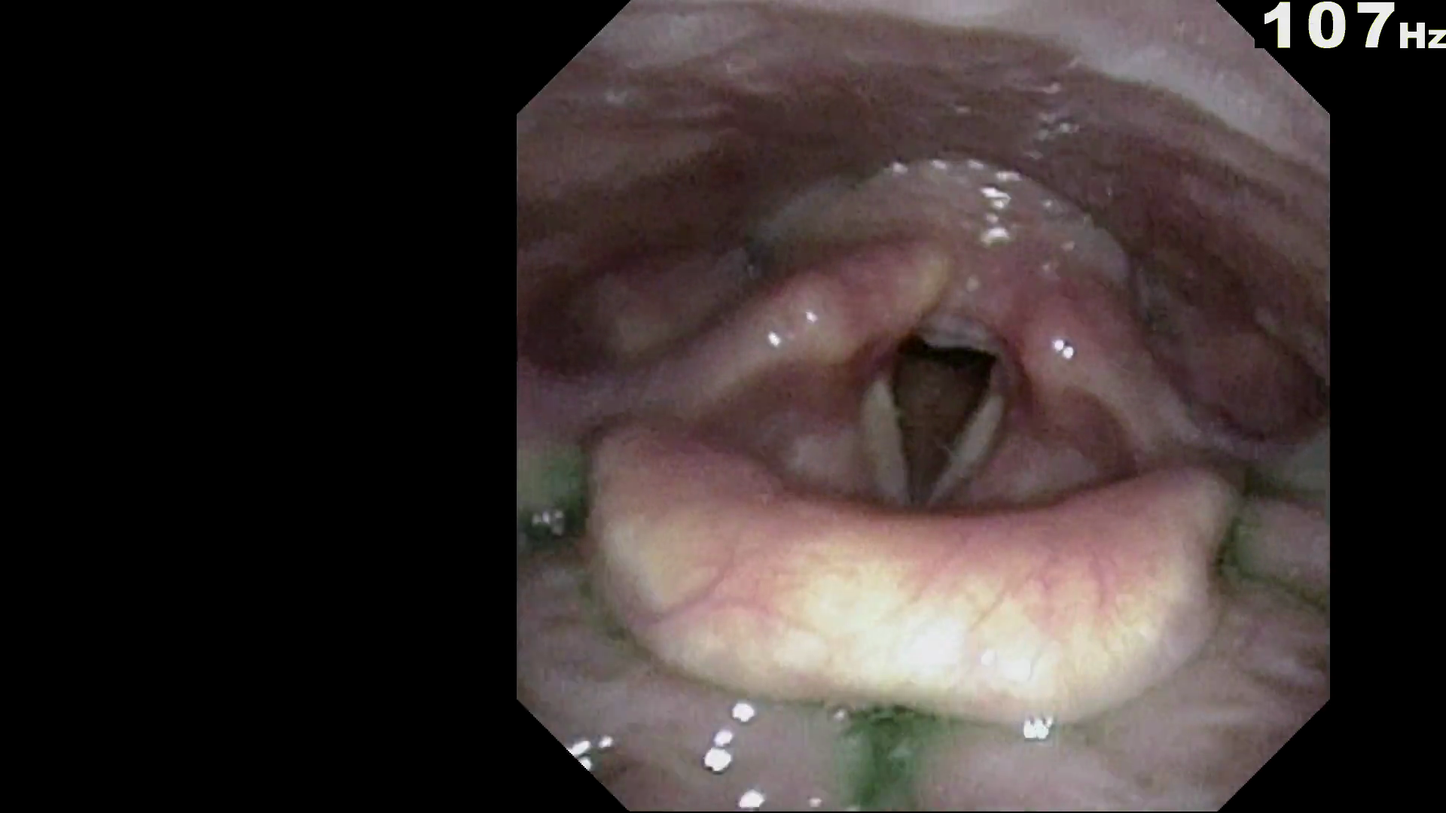epiglottis: (568, 405, 1270, 718), (602, 489, 1226, 761)
trachea: (869, 315, 1012, 530)
